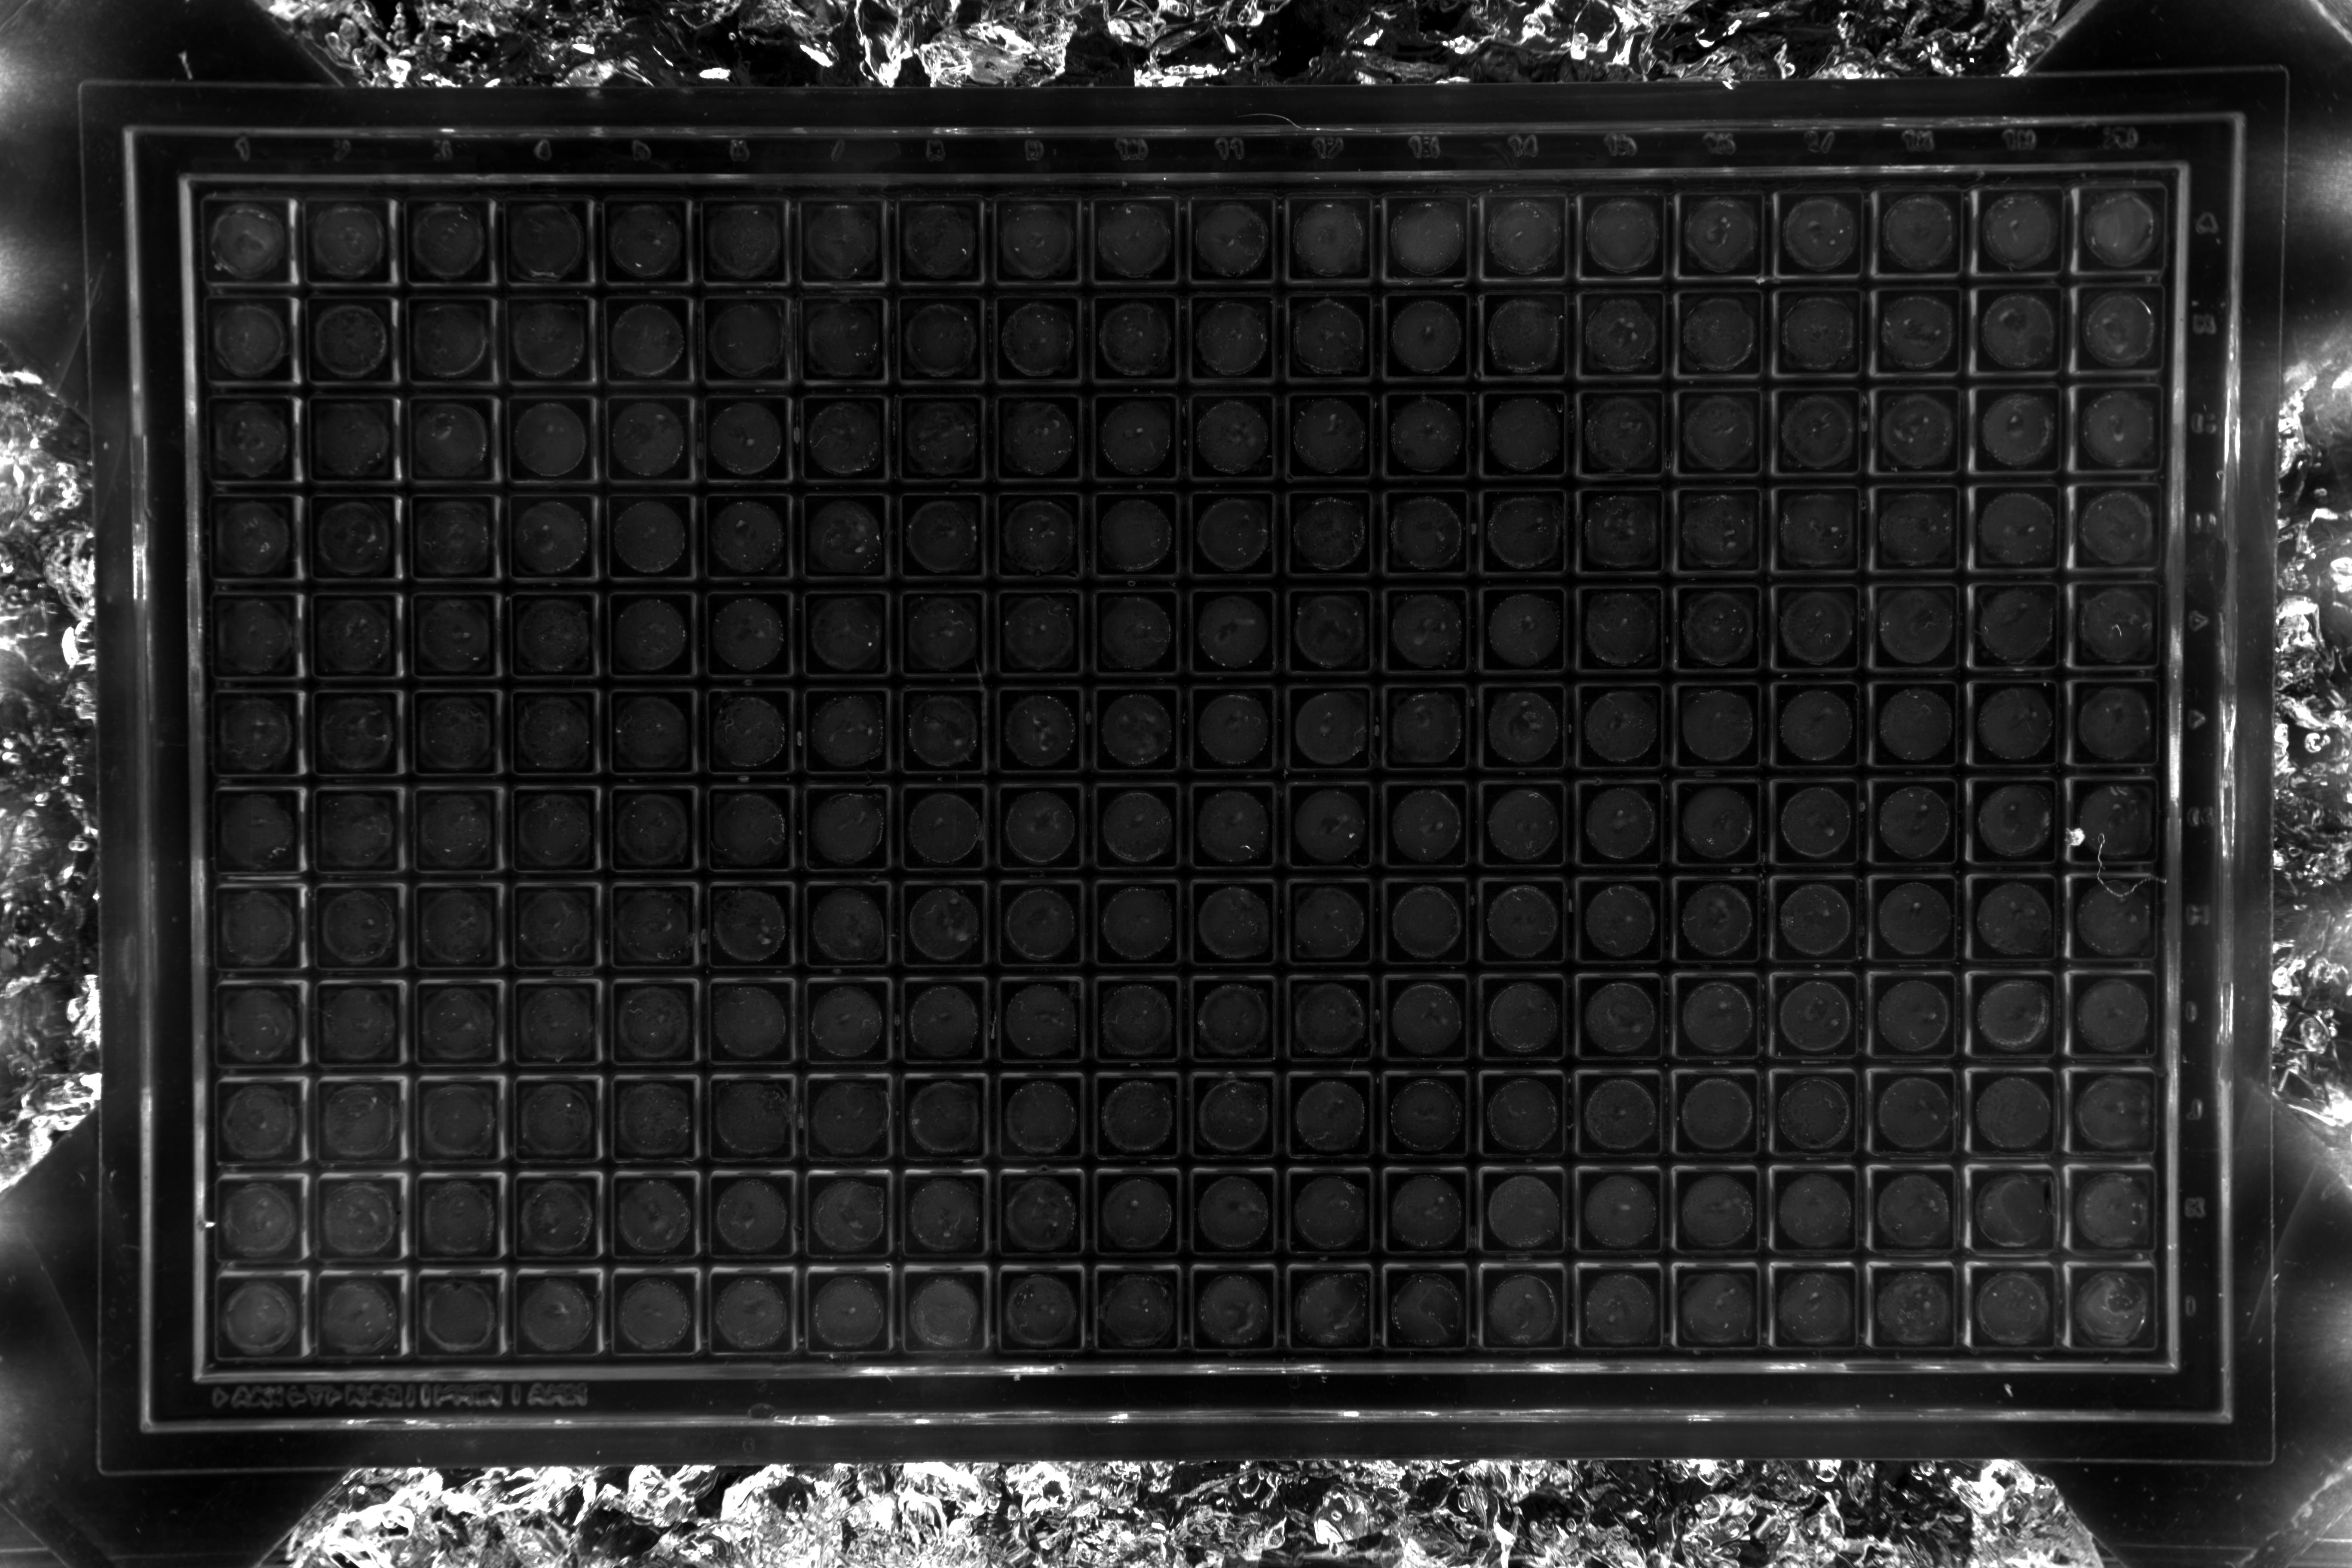WM_well: (497, 828, 586, 915), (591, 534, 681, 621), (789, 922, 878, 1010), (980, 338, 1069, 425), (205, 1120, 292, 1207), (390, 238, 478, 325), (401, 1022, 488, 1109), (595, 1116, 682, 1204), (693, 1116, 780, 1204), (882, 241, 969, 329), (1176, 726, 1263, 814), (1176, 920, 1263, 1008), (1370, 726, 1458, 814), (1370, 434, 1458, 521), (1466, 726, 1554, 814), (1466, 822, 1554, 910), (1468, 334, 1556, 422), (1661, 920, 1748, 1008), (1664, 530, 1752, 618), (1857, 1213, 1944, 1300), (1858, 920, 1946, 1008), (1956, 1115, 2044, 1202), (1956, 1017, 2044, 1104), (2056, 1017, 2144, 1104), (2056, 919, 2144, 1006)
